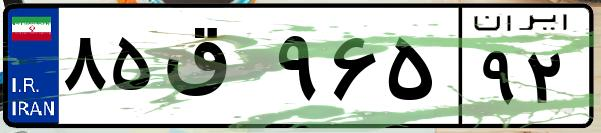2: (525, 38, 570, 115)
5: (385, 28, 445, 110), (110, 28, 158, 98)
6: (330, 28, 385, 110)
8: (57, 26, 110, 100)
9: (270, 28, 330, 110), (475, 38, 525, 113)
ق: (158, 20, 270, 120)
